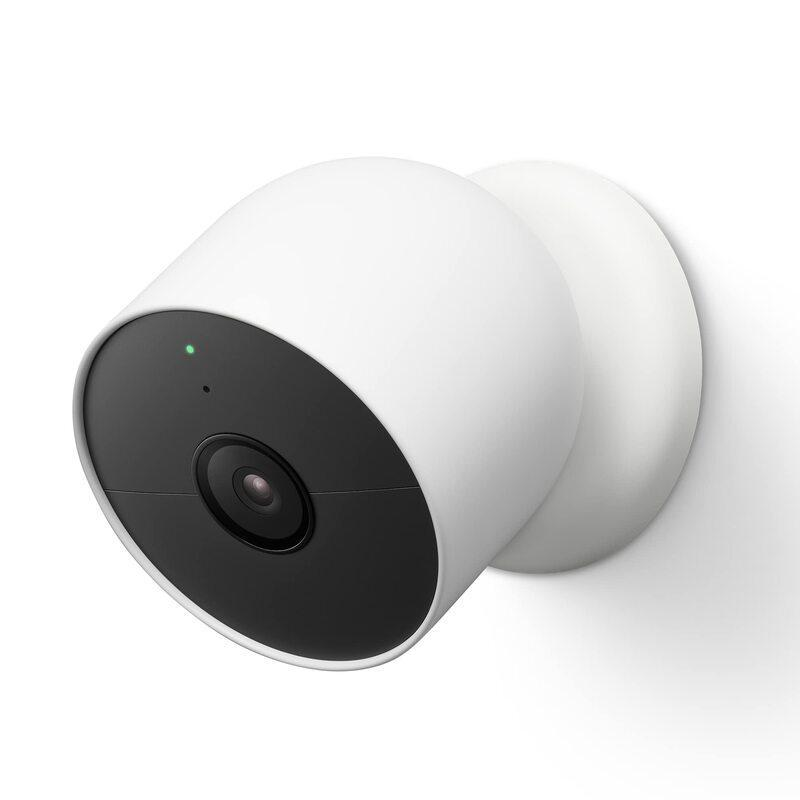bullet: (64, 120, 745, 682)
